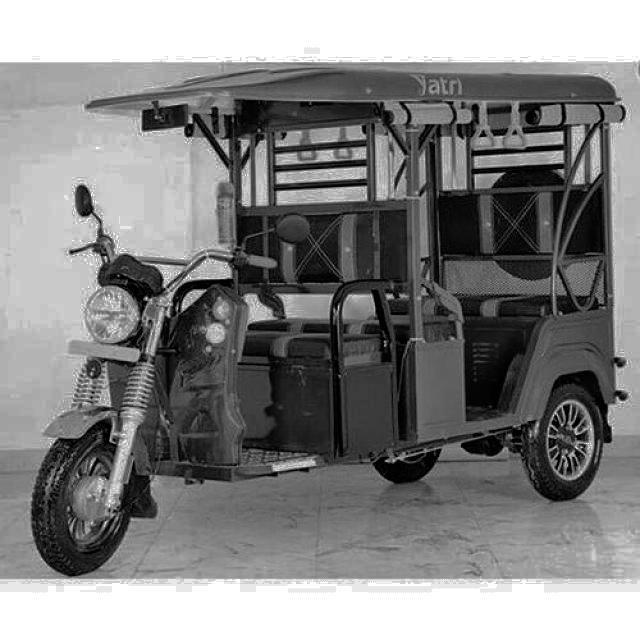Toto: (19, 57, 617, 582)
